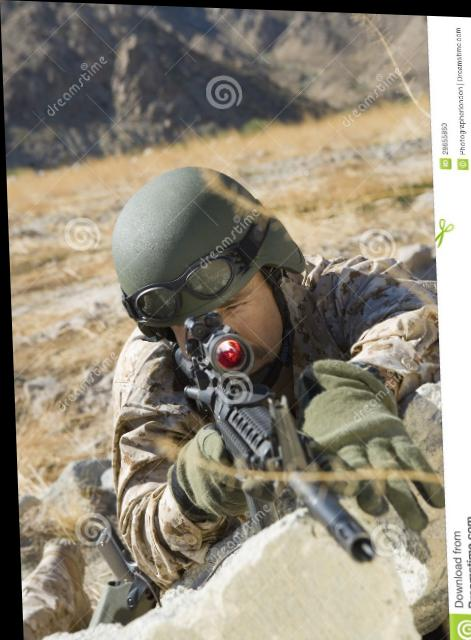other: (98, 159, 445, 559)
